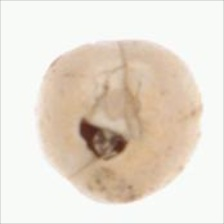L3: (76, 65, 141, 163)
L4: (36, 40, 203, 204)
